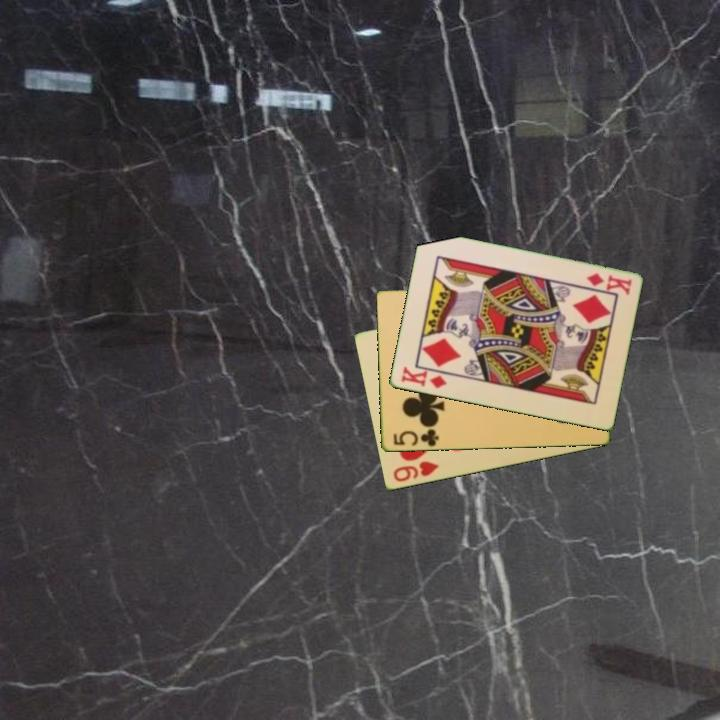5c: (390, 426, 442, 449)
9h: (389, 458, 441, 485)
Kd: (397, 363, 450, 392), (582, 270, 634, 297)
